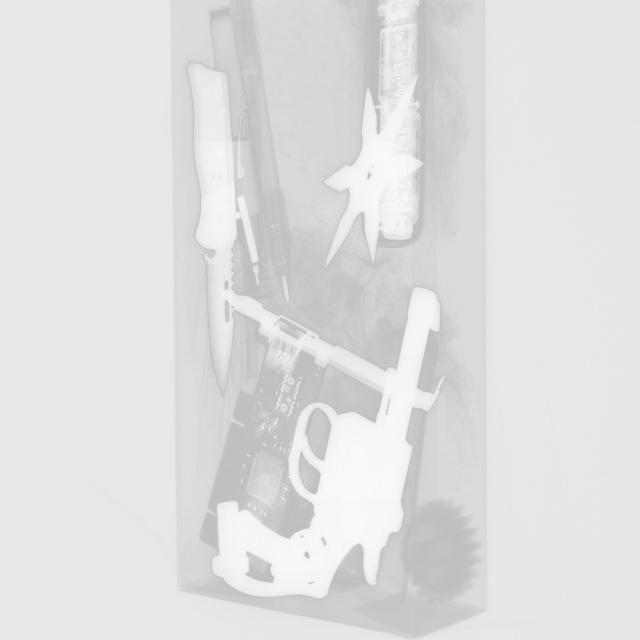knife: (184, 58, 244, 398)
pistol: (212, 286, 443, 599)
